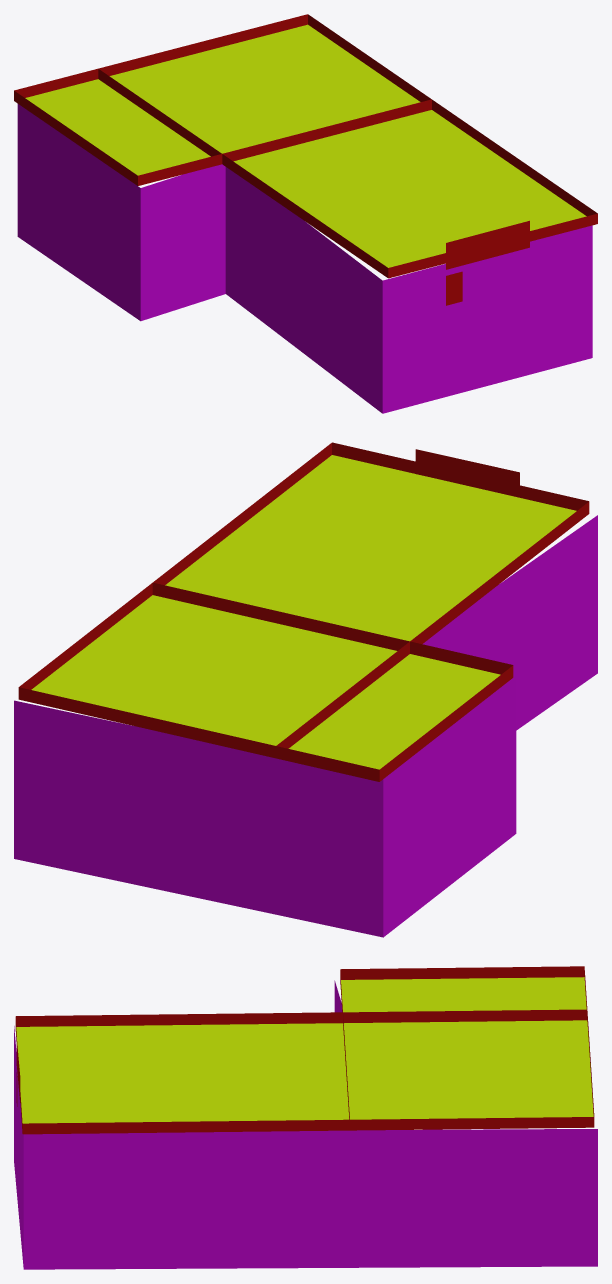
Rendered from bgj_126.glb.
3 renders of one model, top to bottom at view 1: azimuth 30°, elevation 25°; view 2: azimuth 150°, elevation 25°; view 3: azimuth 270°, elevation 25°, orthographic. The views are drawn at different scales.
Visible parts, largest first — view 1: bgj_126; view 2: bgj_126; view 3: bgj_126.
Part boxes in pixels (box(x1,y1,x2,y2)): bgj_126: box(14, 14, 597, 413); bgj_126: box(14, 442, 597, 937); bgj_126: box(14, 966, 597, 1269).
Bounding box in the file's own units: 10.9 × 5.15 × 17.11.
